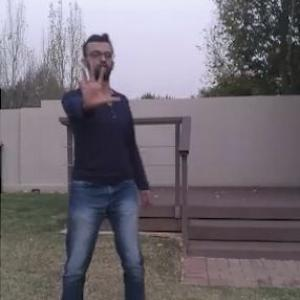follow_hand: (70, 60, 122, 106)
